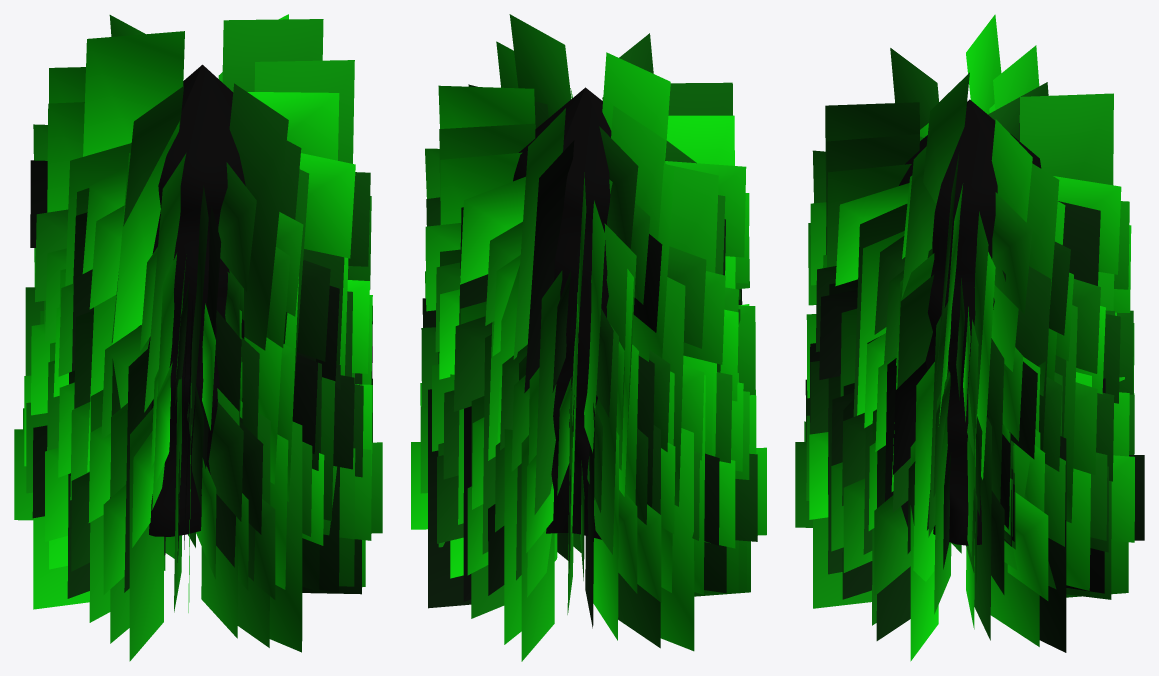
The model's file is Cactus_2_1.fbx.
3 renders of one model, left to right at view 1: azimuth 30°, elevation 25°; view 2: azimuth 150°, elevation 25°; view 3: azimuth 270°, elevation 25°, orthographic. The views are drawn at different scales.
Parts seen in each view (by area): view 1: Cactus_2_1; view 2: Cactus_2_1; view 3: Cactus_2_1.
Boxes of the visible parts, box(x1,y1,x2,y2) form: Cactus_2_1: box(14, 14, 382, 661); Cactus_2_1: box(411, 14, 766, 661); Cactus_2_1: box(795, 14, 1144, 661).
Bounding box in the file's own units: 106 × 189 × 111.
